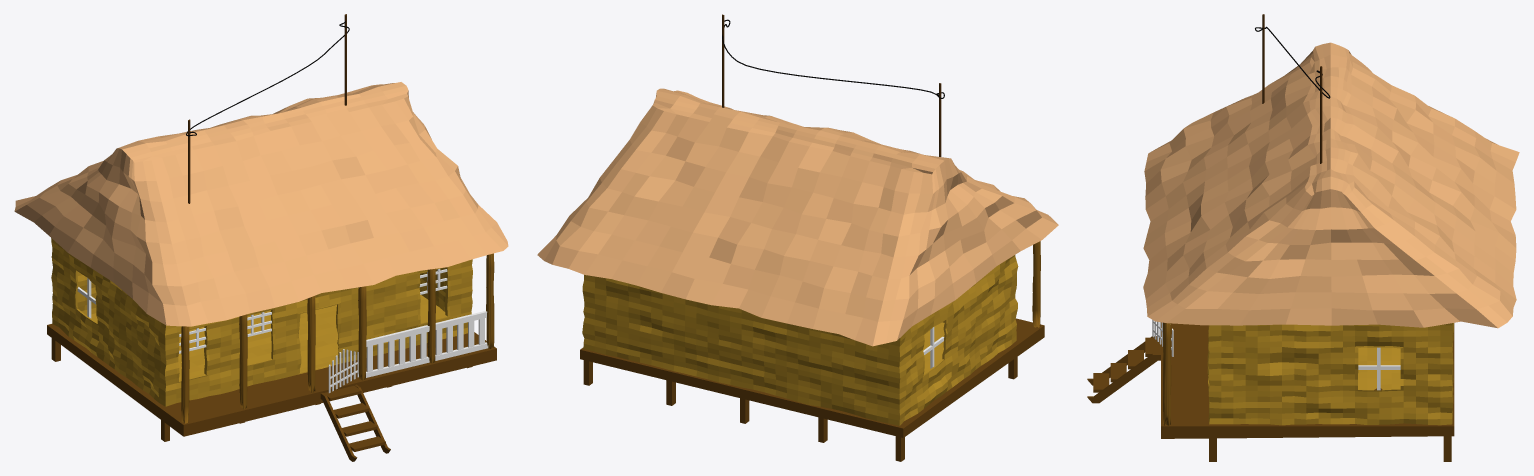
The model's file is House_2.fbx.
3 views of the same model, side by side, from view 1: azimuth 30°, elevation 25°; view 2: azimuth 150°, elevation 25°; view 3: azimuth 270°, elevation 25° (orthographic). The views are drawn at different scales.
Parts seen in each view (by area): view 1: Haus_3; view 2: Haus_3; view 3: Haus_3.
Boxes of the visible parts, box(x1,y1,x2,y2) form: Haus_3: box(14, 14, 508, 461); Haus_3: box(537, 14, 1058, 461); Haus_3: box(1087, 14, 1519, 461).
Size of the model in its own units: 718 by 673 by 712.
1 material, 1 textured.
